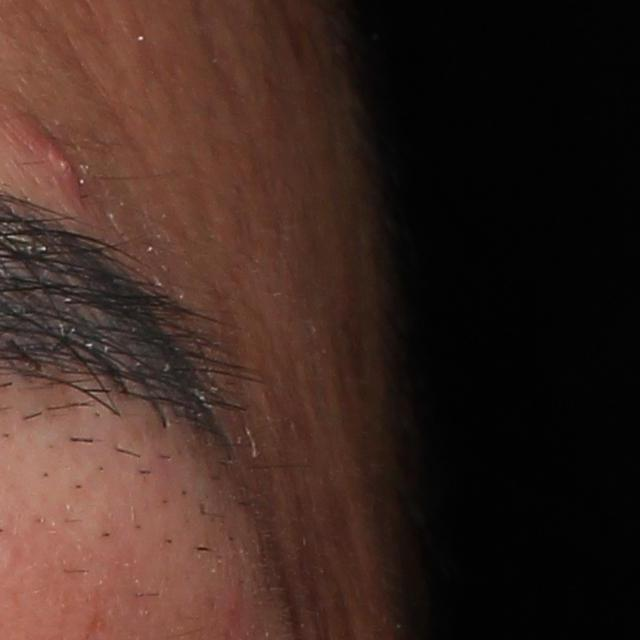papule: (10, 118, 82, 194)
